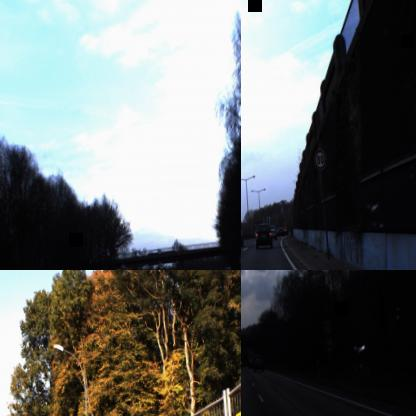no overtaking: (323, 336, 334, 354), (119, 262, 126, 270), (238, 253, 241, 266)
speed limit 70: (321, 317, 333, 336)
speed limit 80: (313, 147, 327, 170)
